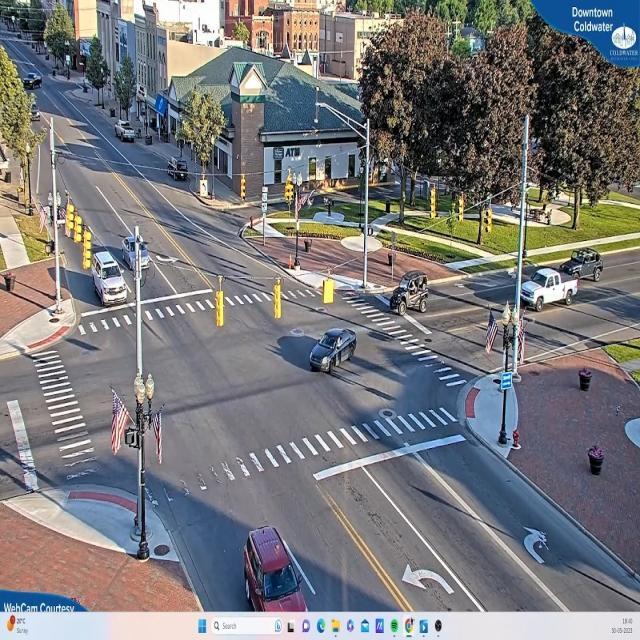car: (241, 528, 310, 612), (308, 327, 357, 375), (523, 266, 573, 312), (382, 271, 432, 317), (91, 251, 128, 306), (564, 254, 604, 282), (122, 232, 150, 272), (165, 159, 189, 180), (116, 123, 136, 143)
